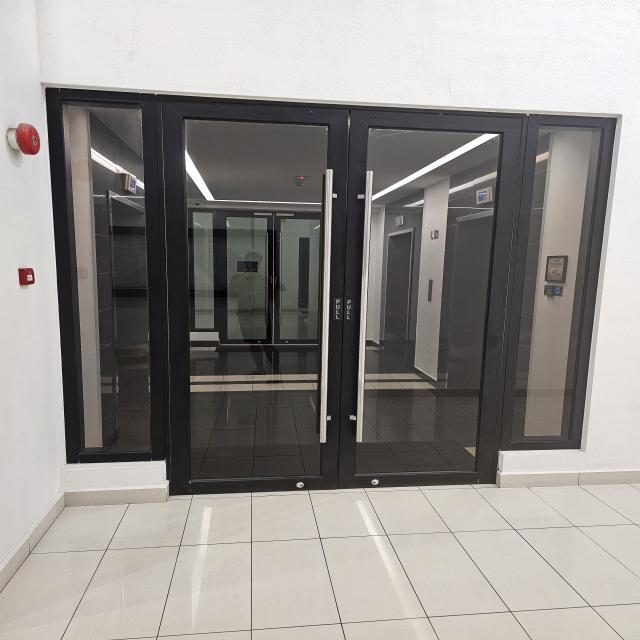door: (144, 86, 518, 494)
footpath: (58, 497, 640, 640)
